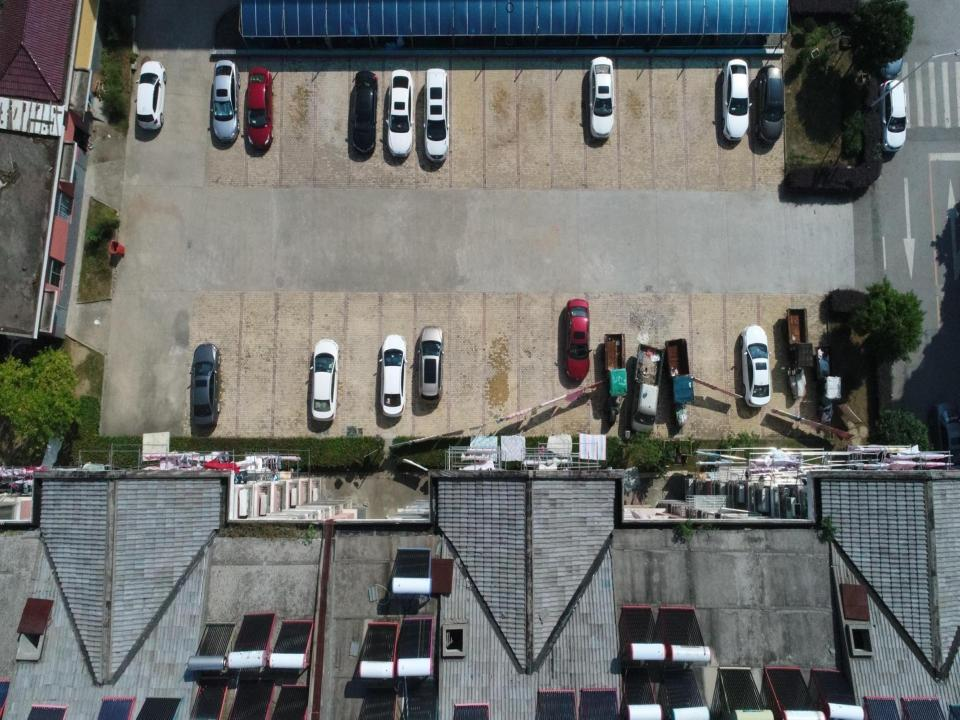car: (740, 325, 772, 408), (210, 59, 241, 143), (385, 69, 414, 157), (190, 343, 220, 427), (754, 65, 786, 143), (722, 59, 752, 141), (310, 339, 339, 421), (930, 399, 960, 478), (351, 70, 378, 155), (379, 335, 407, 416), (246, 67, 274, 148), (589, 56, 616, 139), (416, 324, 444, 404), (565, 298, 592, 380), (878, 80, 908, 152), (136, 61, 166, 130), (875, 19, 903, 79)
truck: (630, 343, 665, 437)
van: (423, 67, 450, 162)
